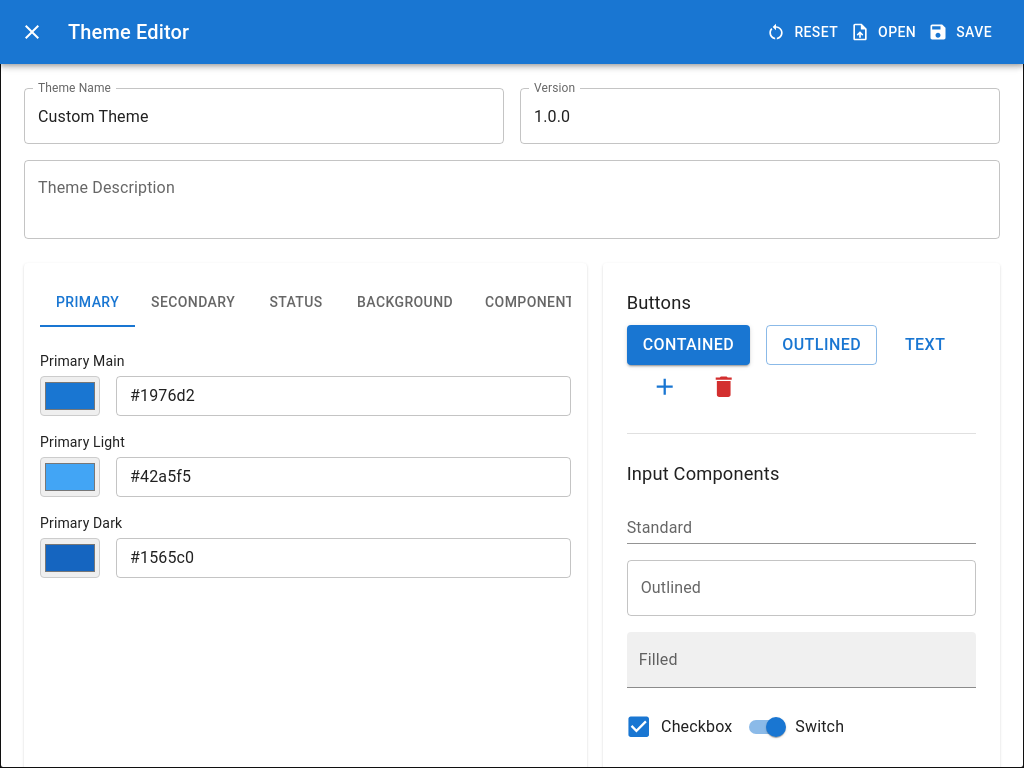
Scenario: ThemeEditorDialog - Overwrite File Functionality › should show overwrite dialog when saving a theme with existing filename
The width and height of the screenshot is (1024, 768).
Note: Set theme name to match the existing file
Replace the text in the field labelled "Theme Name" with "My New Theme" at (264, 116), box top-left (24, 88), bottom-right (504, 144)
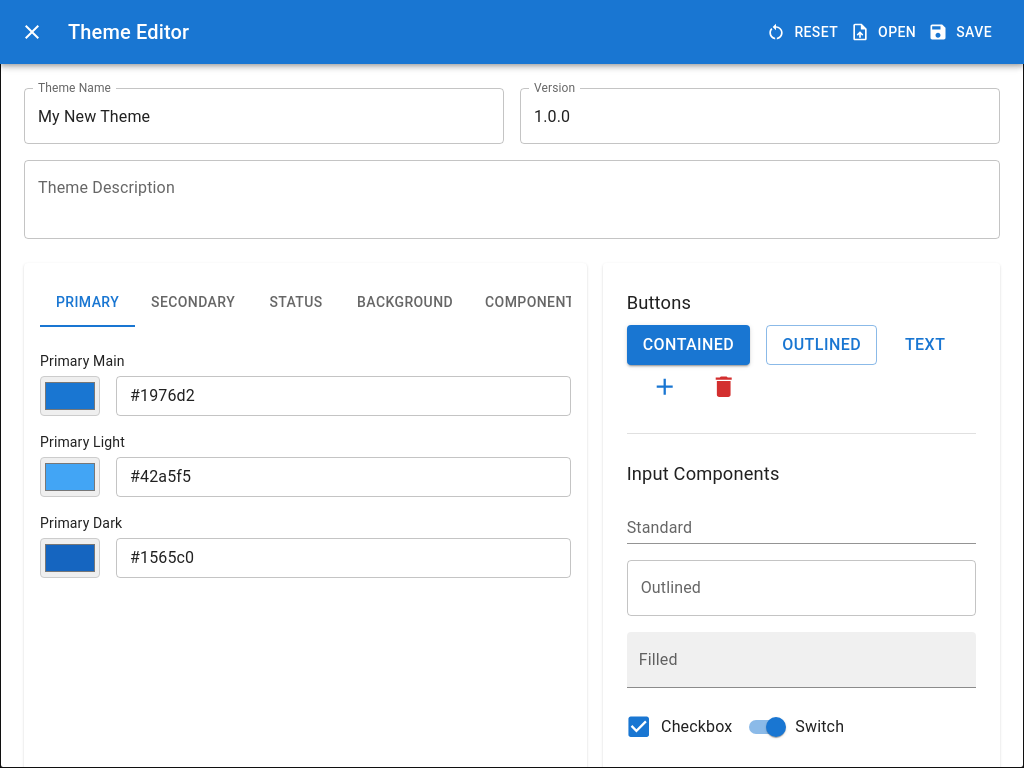
Note: Click Save button
Click the button "Save" at (962, 32), box top-left (924, 14), bottom-right (1000, 50)
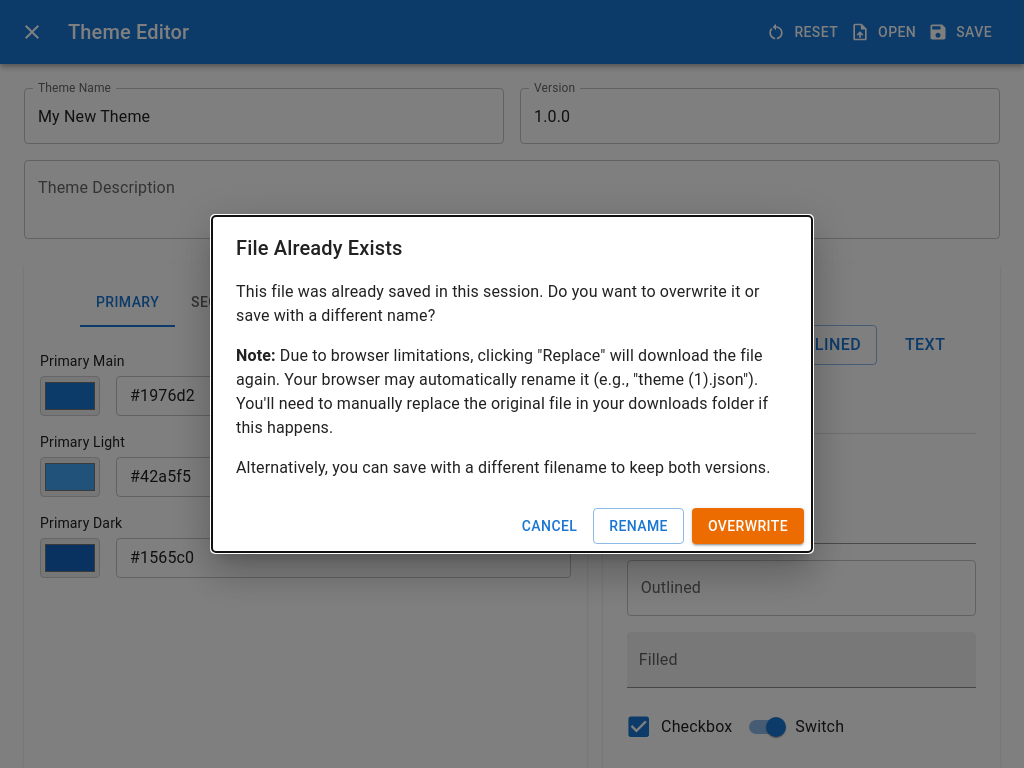
Expected: the heading "File Already Exists" is shown, top-left (236, 236), bottom-right (402, 260)
Expected: the text "This file was already saved in this session" is shown, top-left (236, 282), bottom-right (760, 325)
